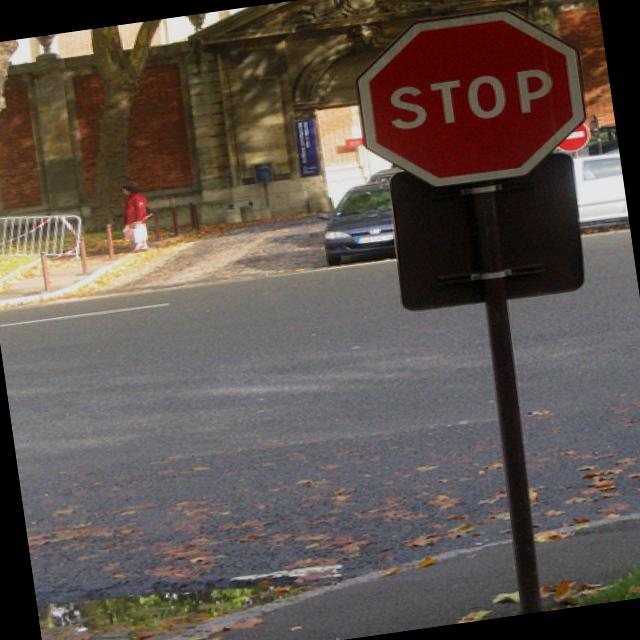Vehicle: (310, 182, 402, 265), (564, 148, 630, 232)
